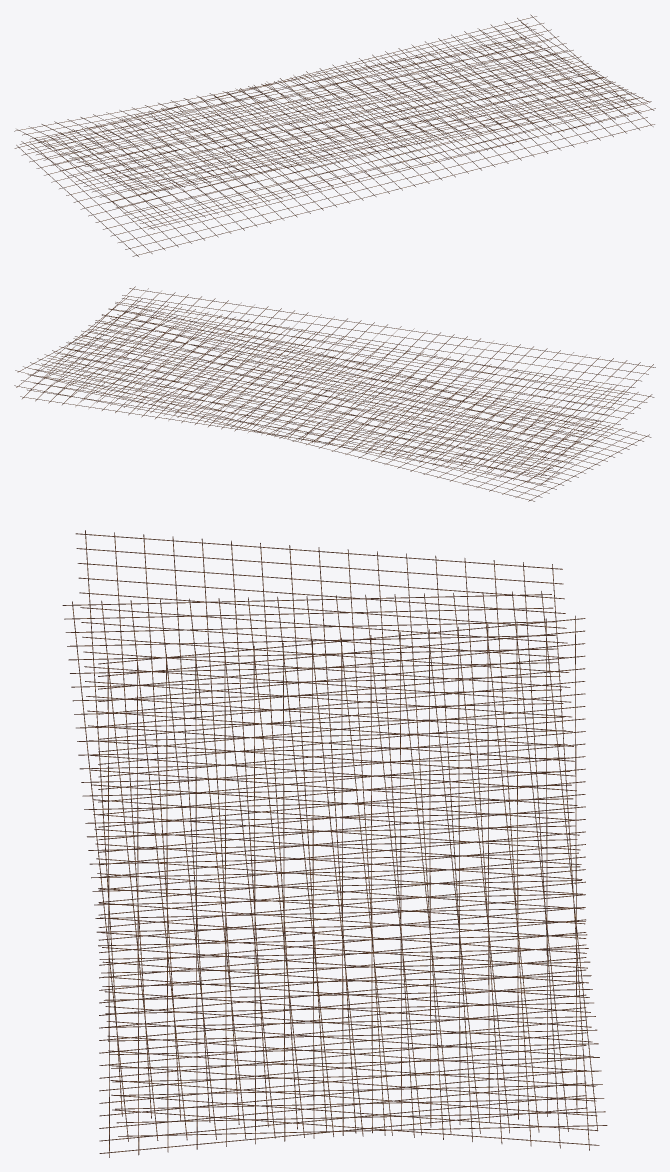
Rendered from EST-TEL-002_anim.glb.
3 renders of one model, top to bottom at view 1: azimuth 30°, elevation 25°; view 2: azimuth 150°, elevation 25°; view 3: azimuth 270°, elevation 25°, orthographic. The views are drawn at different scales.
Visible parts, largest first — view 1: EST-TEL-002_anim2, EST-TEL-002_anim1, EST-TEL-002_anim0; view 2: EST-TEL-002_anim2, EST-TEL-002_anim1, EST-TEL-002_anim0; view 3: EST-TEL-002_anim2, EST-TEL-002_anim1, EST-TEL-002_anim0.
Part boxes in pixels (box(x1,y1,x2,y2)): EST-TEL-002_anim2: box(14, 36, 651, 194); EST-TEL-002_anim1: box(20, 22, 655, 229); EST-TEL-002_anim0: box(14, 14, 654, 256); EST-TEL-002_anim2: box(20, 286, 655, 476); EST-TEL-002_anim1: box(14, 296, 654, 485); EST-TEL-002_anim0: box(15, 306, 651, 501); EST-TEL-002_anim2: box(75, 530, 599, 1150); EST-TEL-002_anim1: box(62, 591, 607, 1141); EST-TEL-002_anim0: box(98, 615, 586, 1157).
Bounding box in the file's own units: 6.13 × 0.7318 × 2.72.
Materials: 1 (1 with a texture image).
